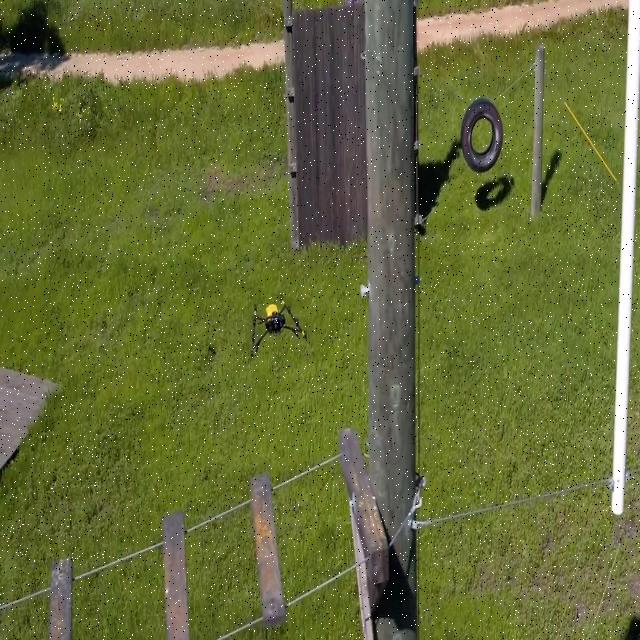UAV: (250, 295, 308, 358)
